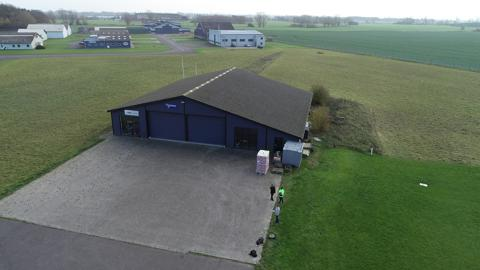RockwoolPallet: (256, 149, 270, 175)
